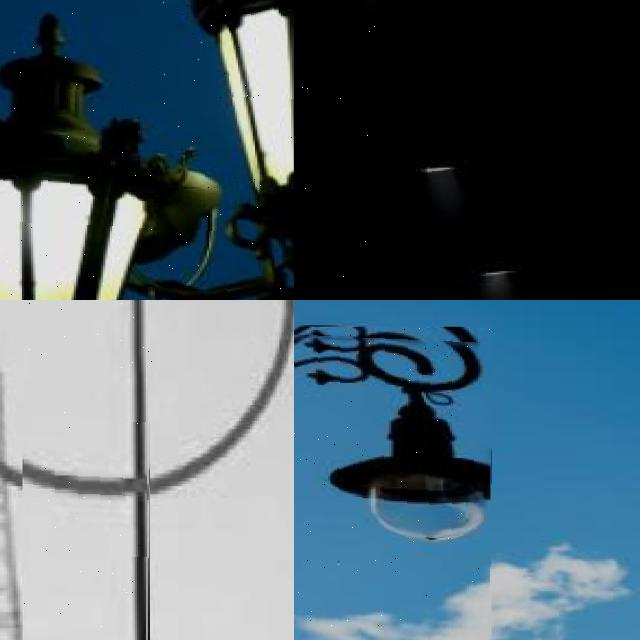street light: (0, 0, 294, 300), (294, 326, 491, 640), (24, 300, 152, 640), (294, 0, 375, 300), (294, 164, 461, 300)
